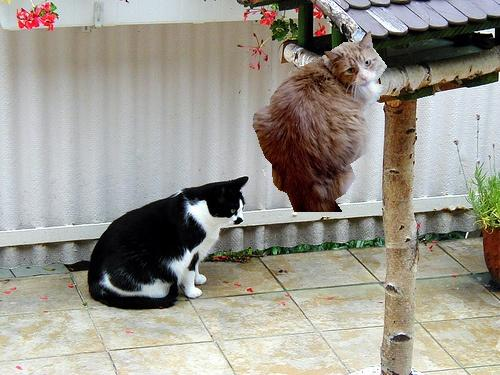tampered: (253, 32, 387, 212)
